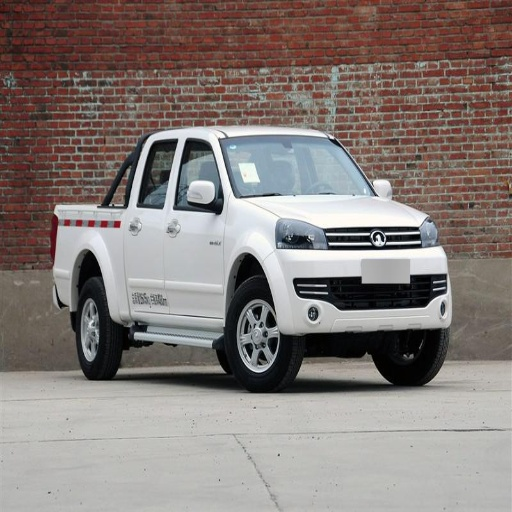front_bumper: (270, 226, 448, 334)
front_right_door: (164, 136, 223, 316)
trunk: (34, 208, 121, 315)
